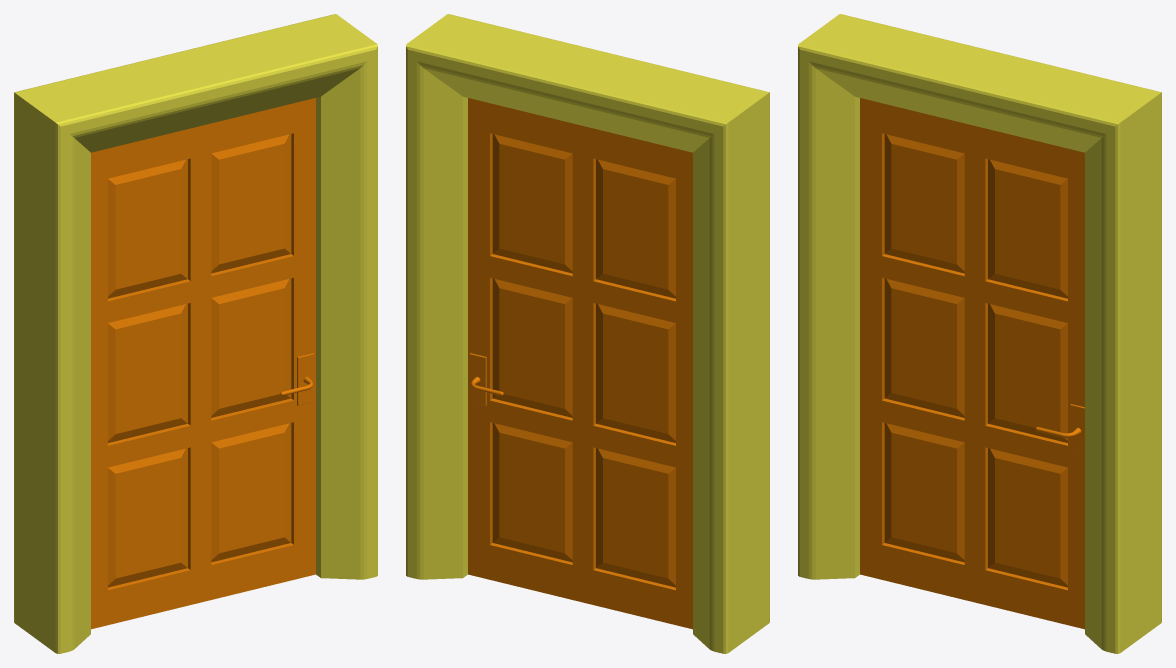
Rendered from Door.fbx.
The picture shows the model from 3 angles, left to right: view 1: azimuth 30°, elevation 25°; view 2: azimuth 150°, elevation 25°; view 3: azimuth 330°, elevation 25°; orthographic projection.
Visible parts, largest first — view 1: Door, Frame; view 2: Door, Frame; view 3: Door, Frame.
Part boxes in pixels (x1=…): Door: x1=91, y1=98, x2=315, y2=629; Frame: x1=14, y1=14, x2=377, y2=653; Door: x1=468, y1=98, x2=692, y2=629; Frame: x1=406, y1=14, x2=769, y2=653; Door: x1=860, y1=98, x2=1084, y2=629; Frame: x1=798, y1=14, x2=1161, y2=653.
Bounding box in the file's own units: 560 × 882 × 135.
